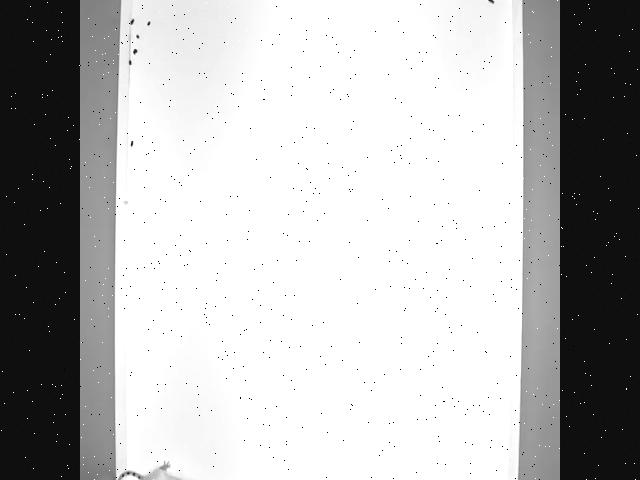Tikus: (107, 456, 195, 480)
